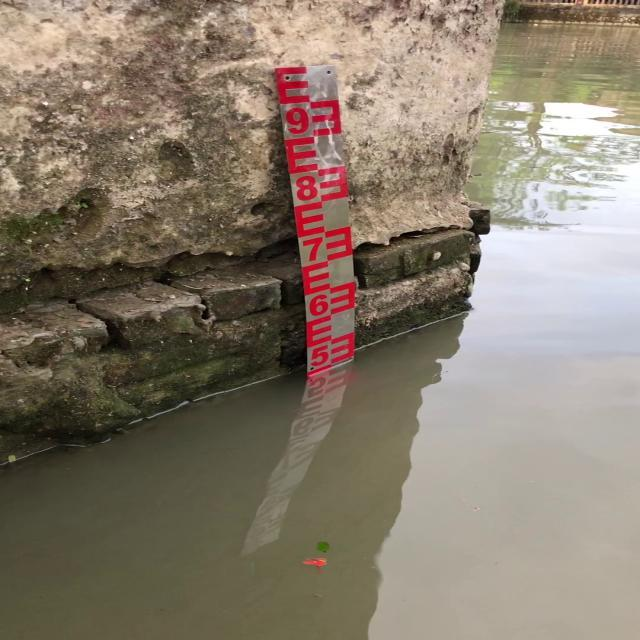ruler: (265, 57, 375, 384)
value: (279, 101, 318, 142), (294, 230, 330, 268), (290, 170, 324, 208), (302, 286, 336, 324), (305, 338, 335, 373)
